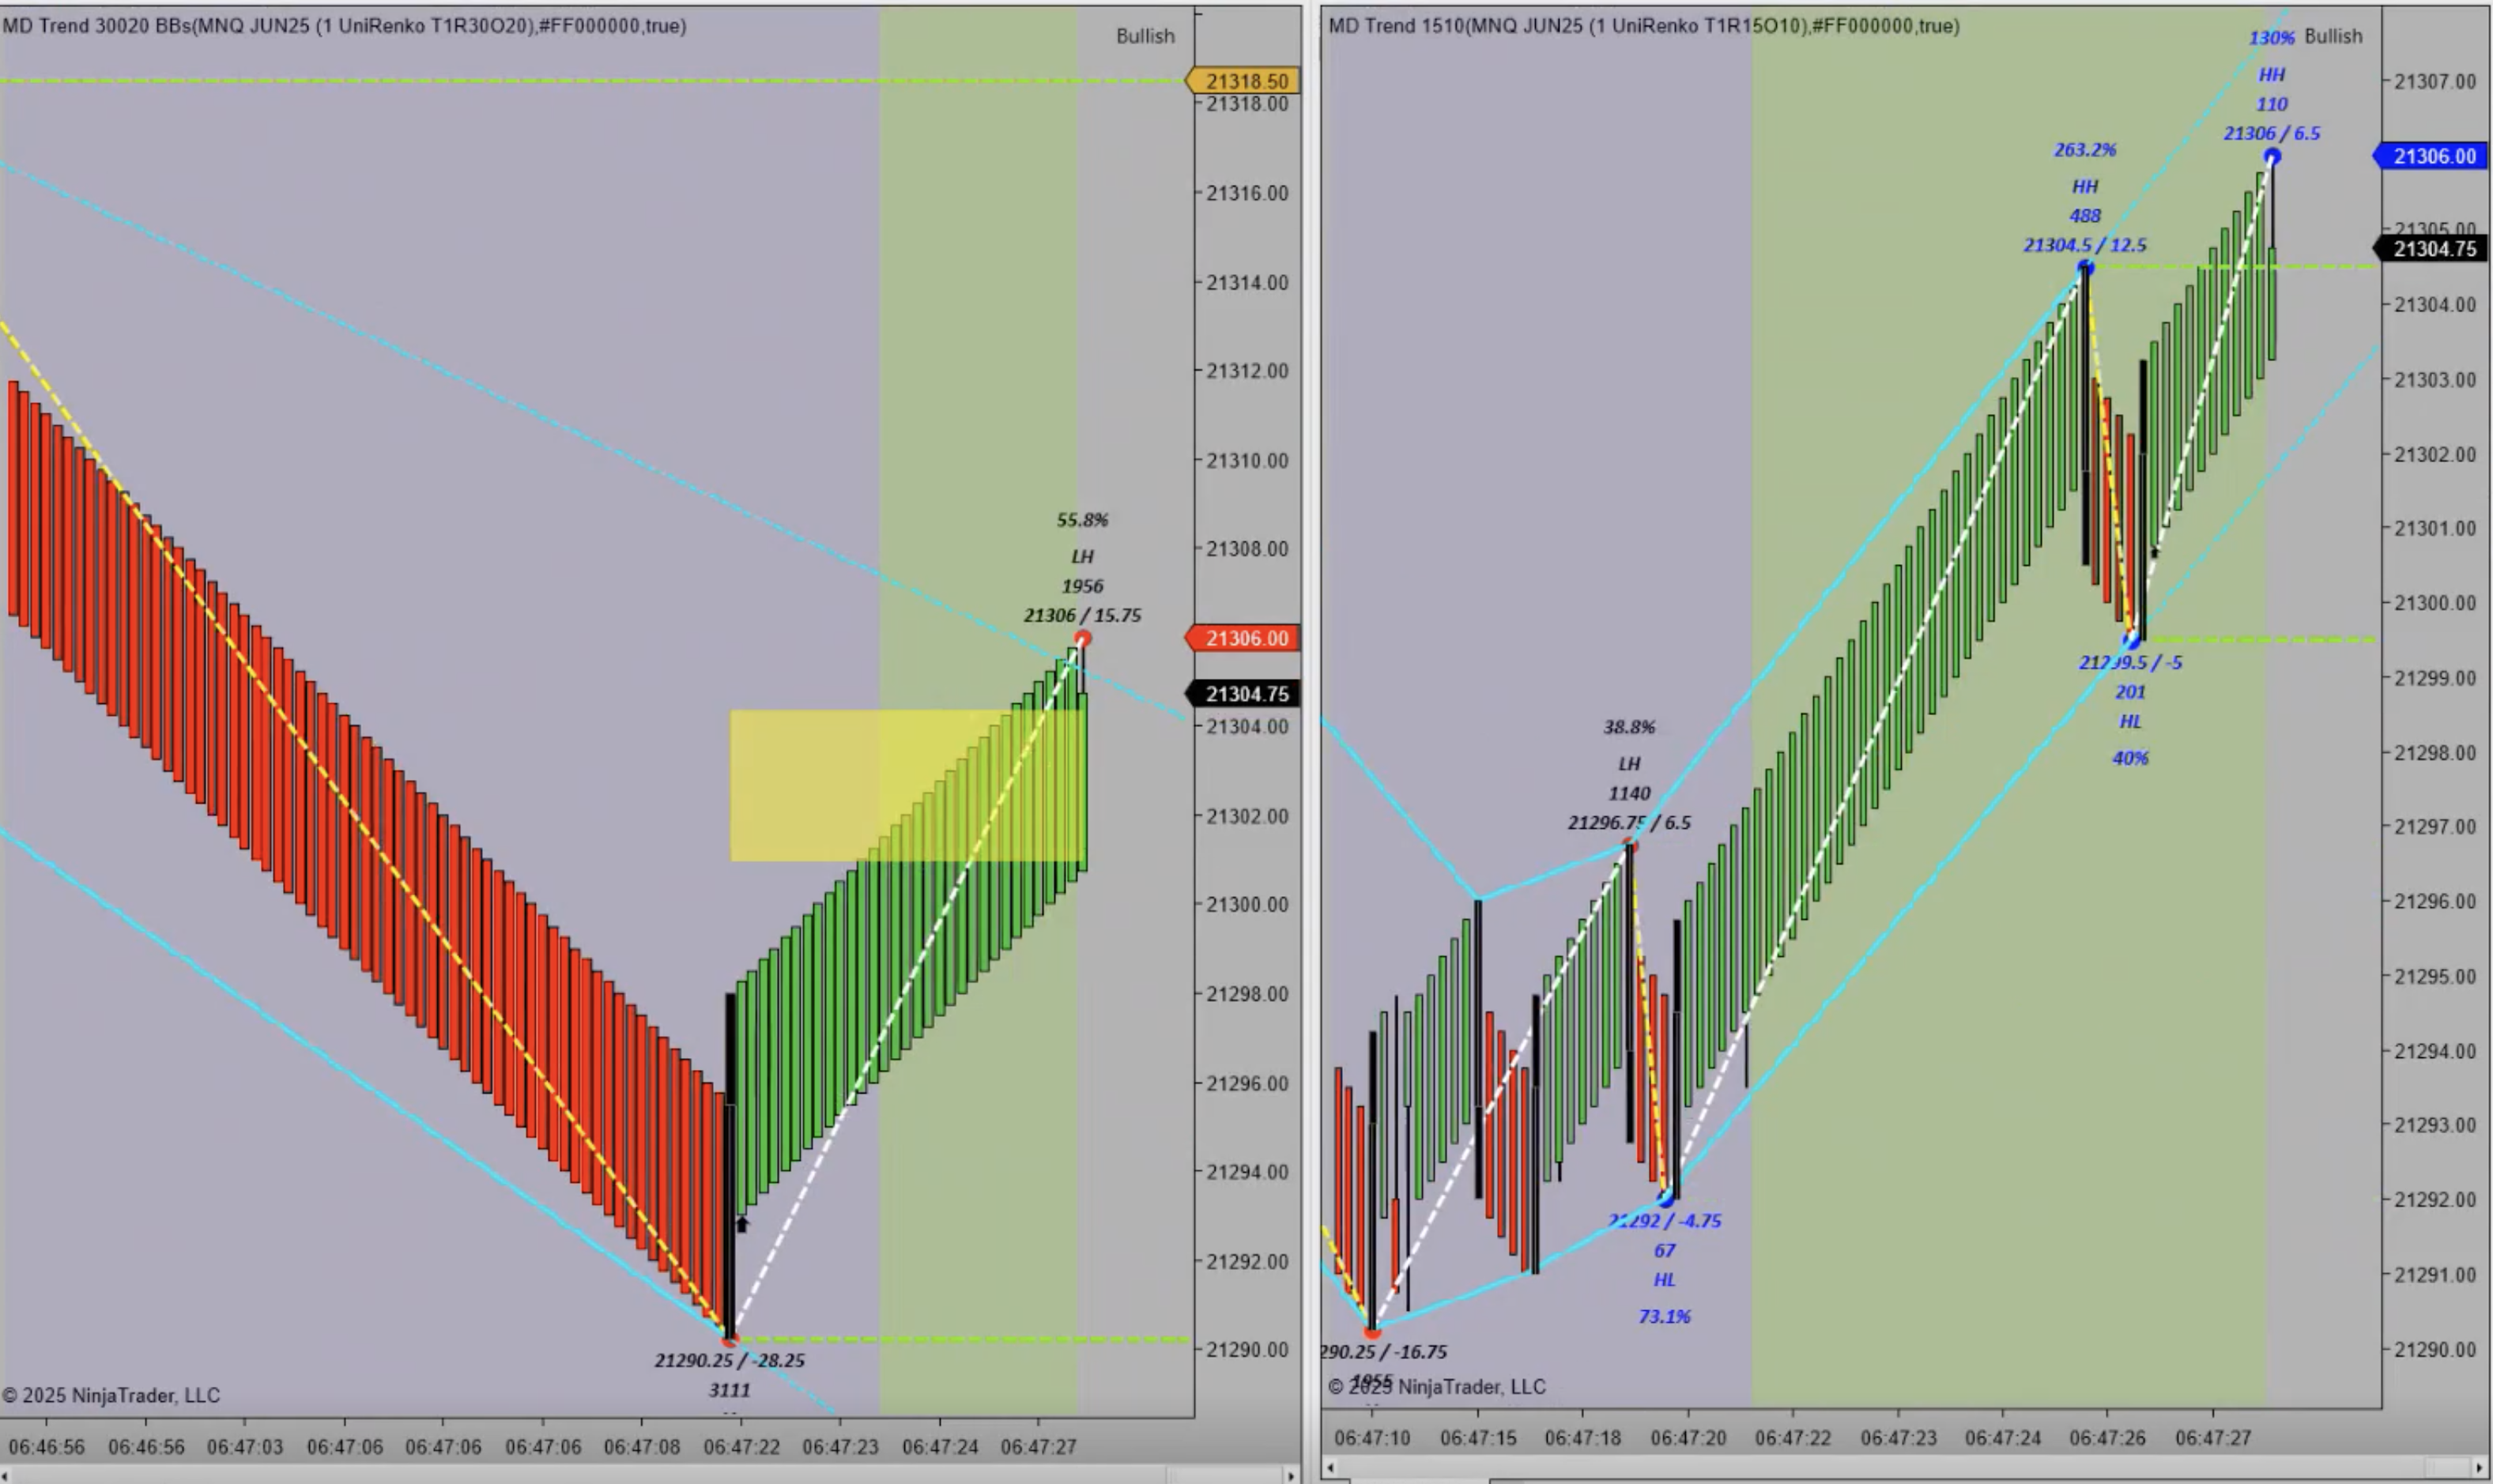candle: (1528, 989, 1548, 1283), (1670, 920, 1689, 1205), (1474, 897, 1491, 1210), (1624, 839, 1641, 1147), (2078, 267, 2095, 567), (2136, 359, 2152, 638), (726, 991, 737, 1351), (1368, 1026, 1378, 1332)
